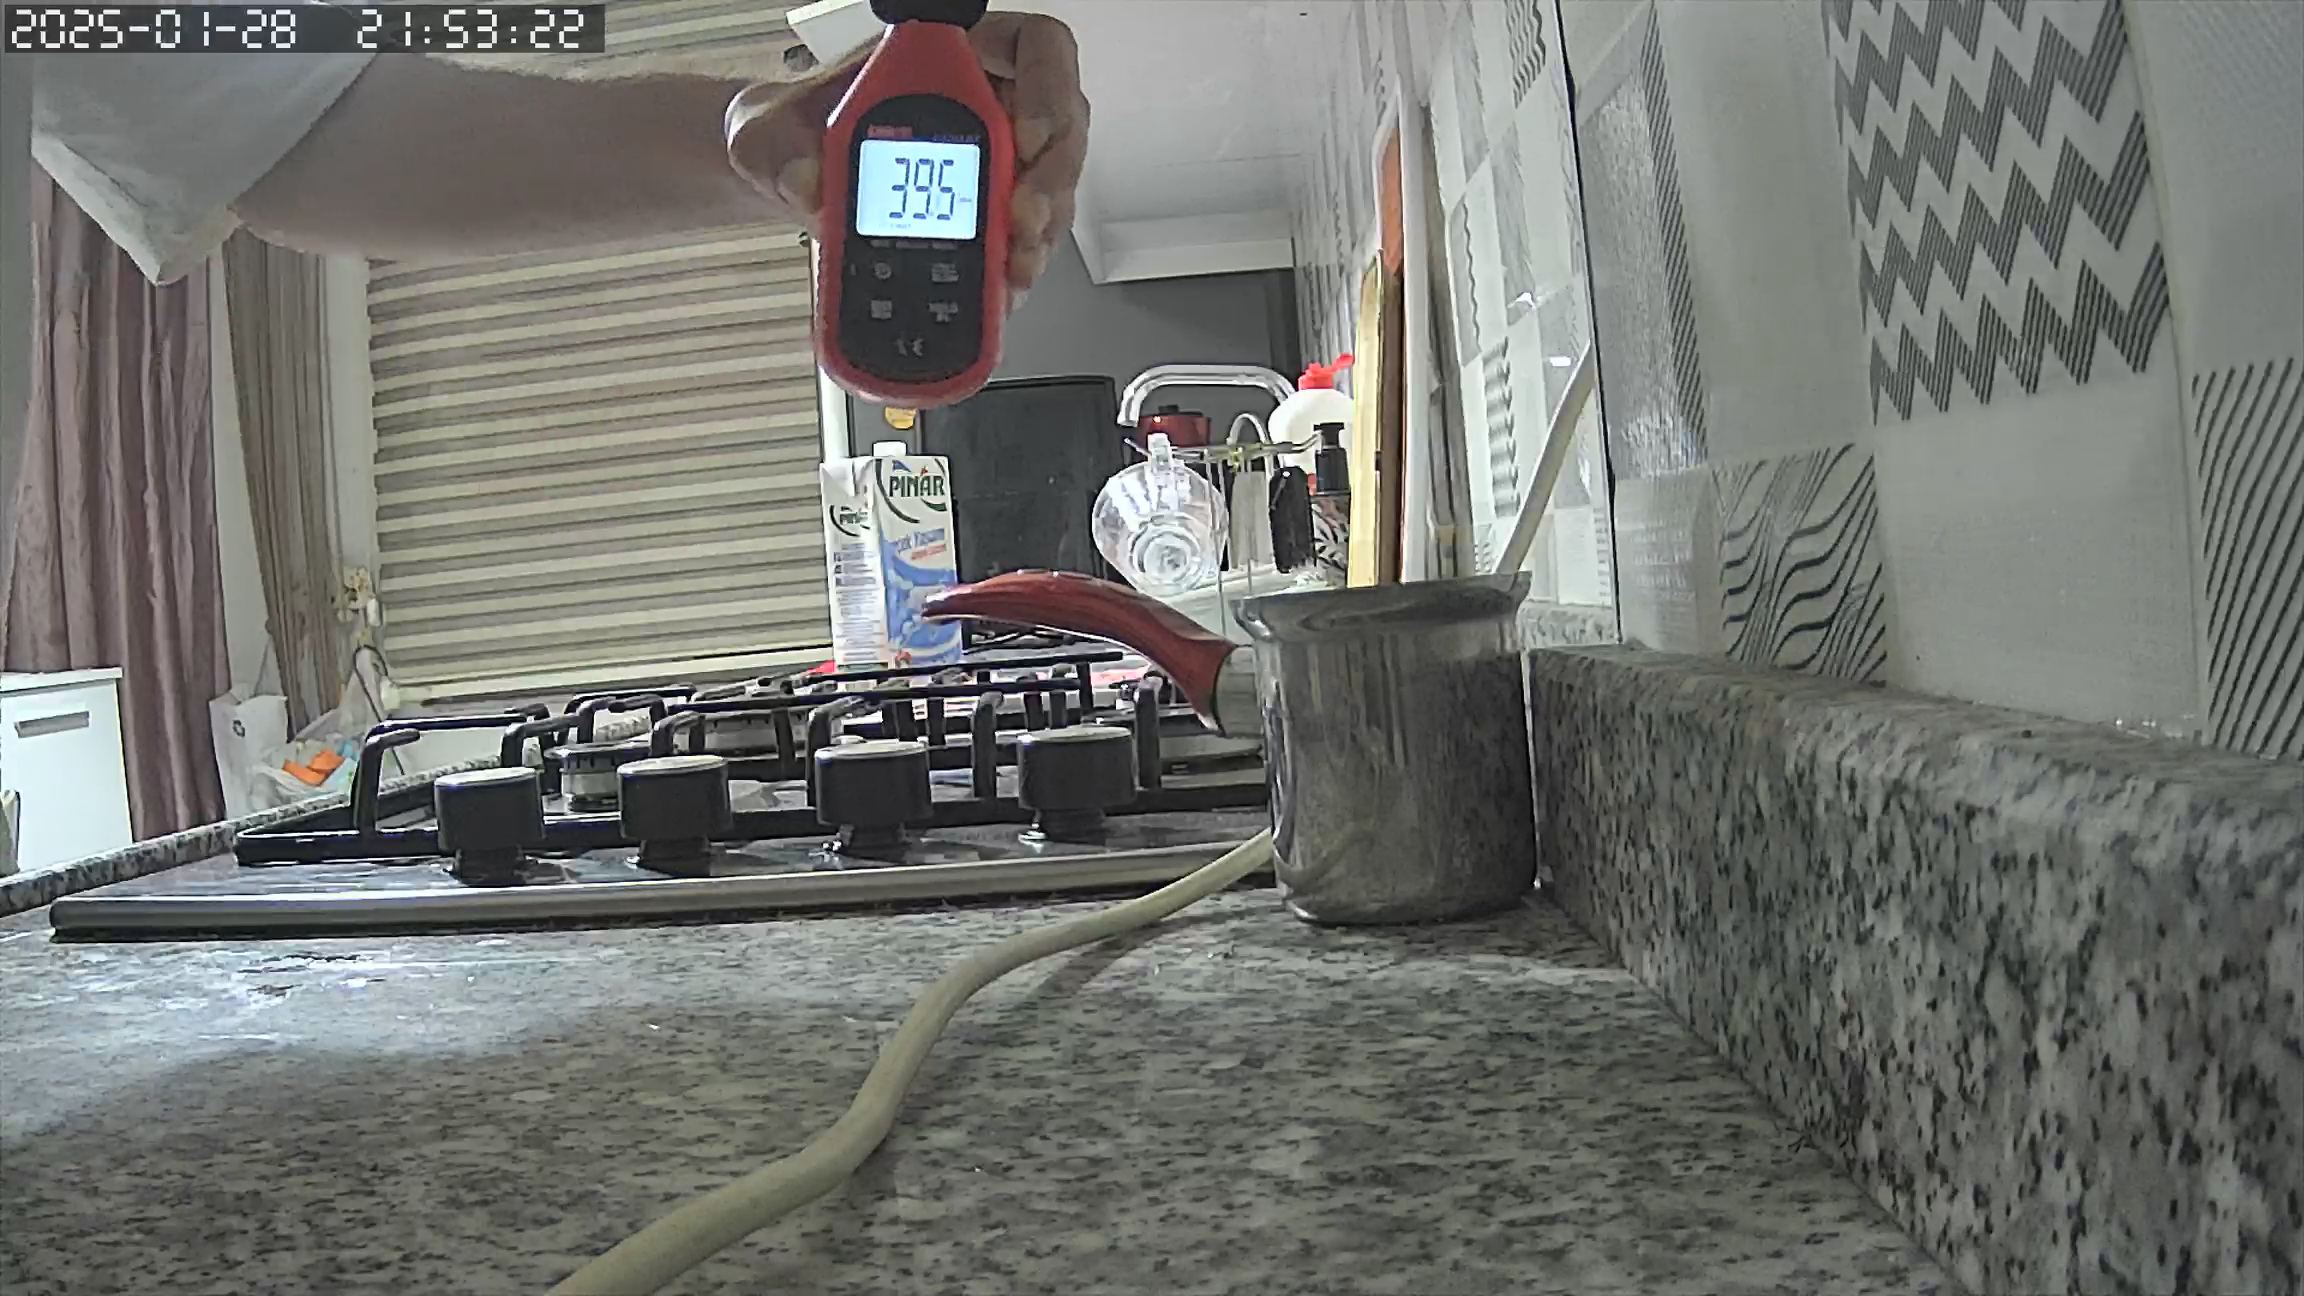screen: (858, 136, 981, 241)
